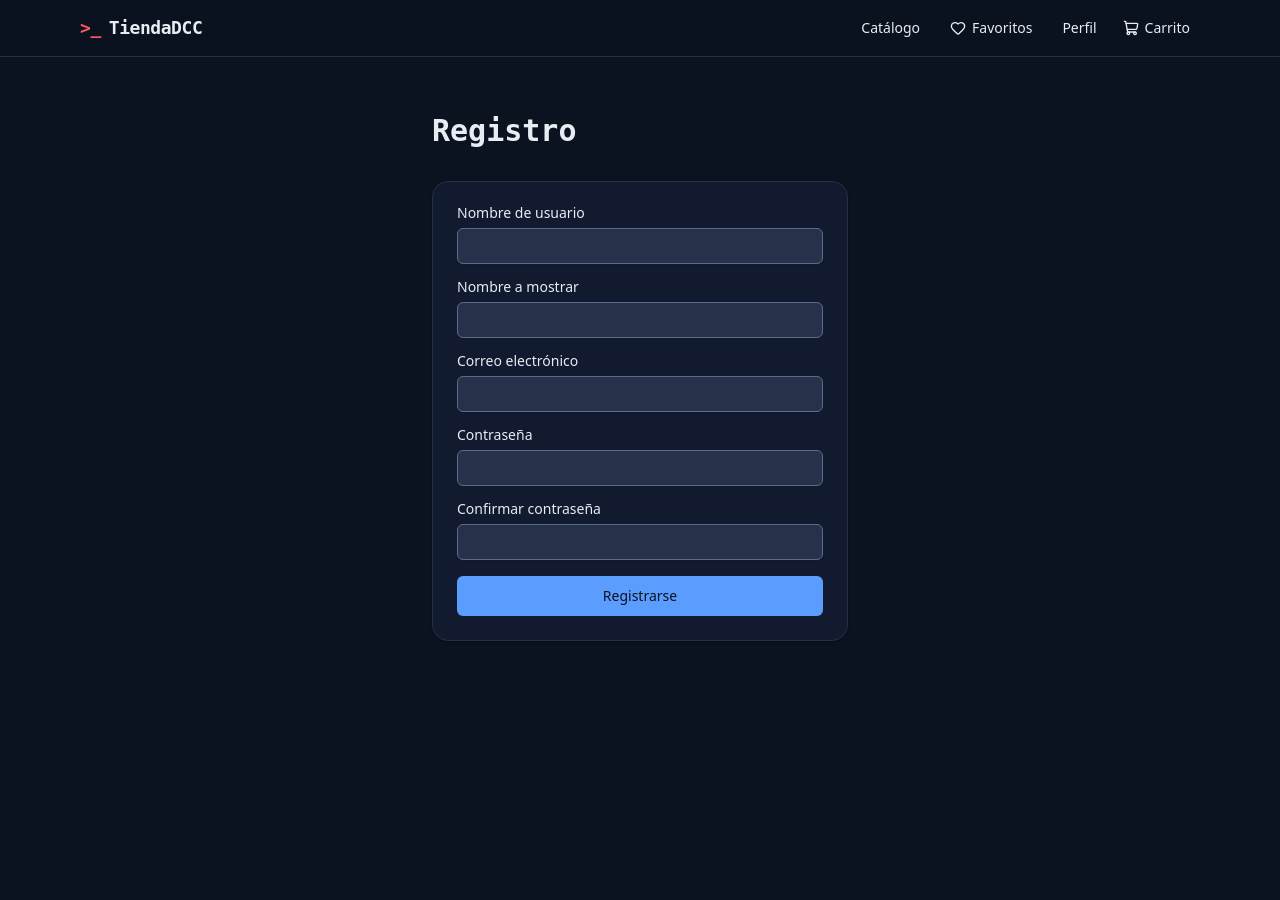
Test: RegisterPage › validates locally and keeps the entered data
Type "ana" into the field labelled "Nombre de usuario".
click(640, 246); type("ana")  # box [457, 228, 823, 264]
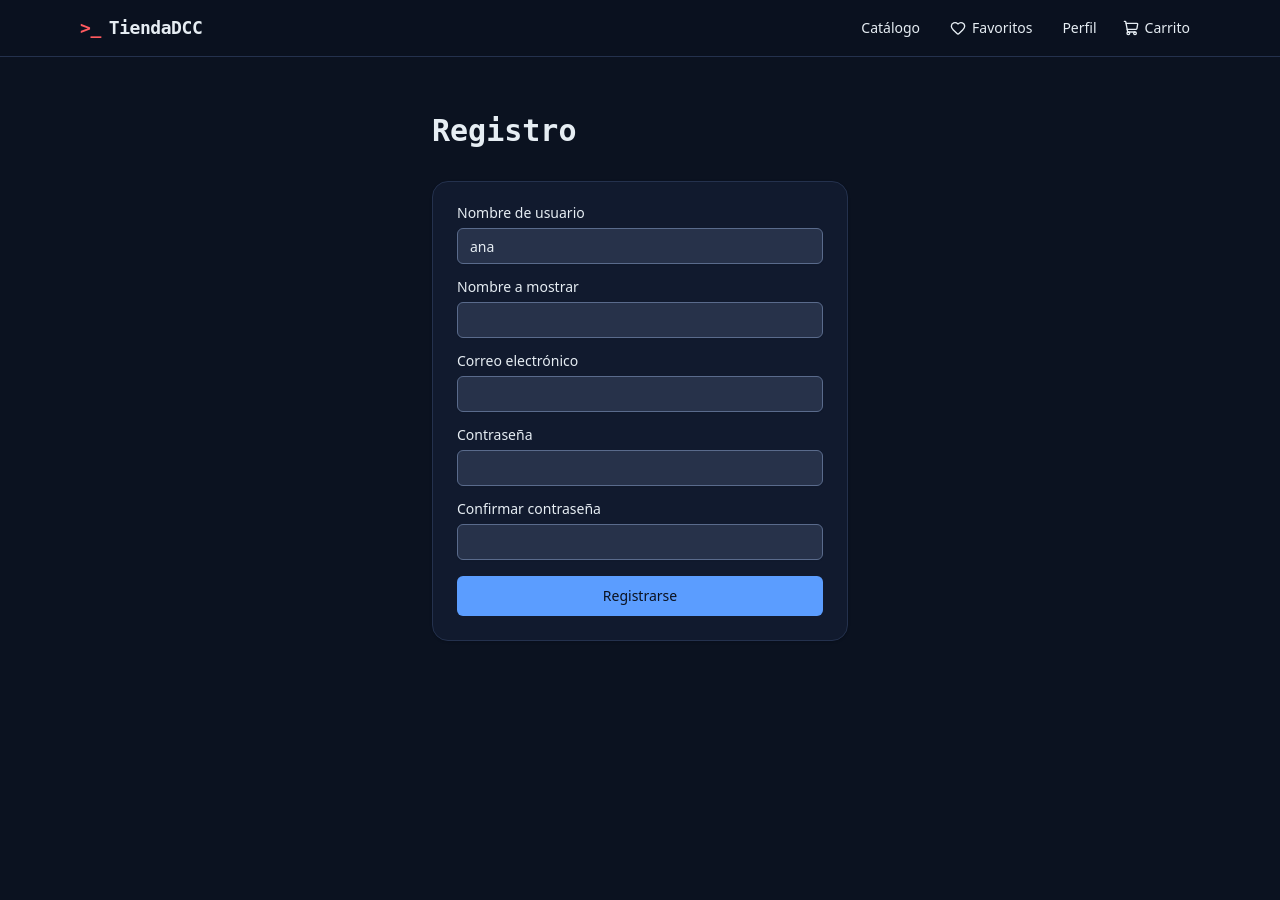
Click the button "Registrarse".
click(640, 596)  # box [457, 576, 823, 616]
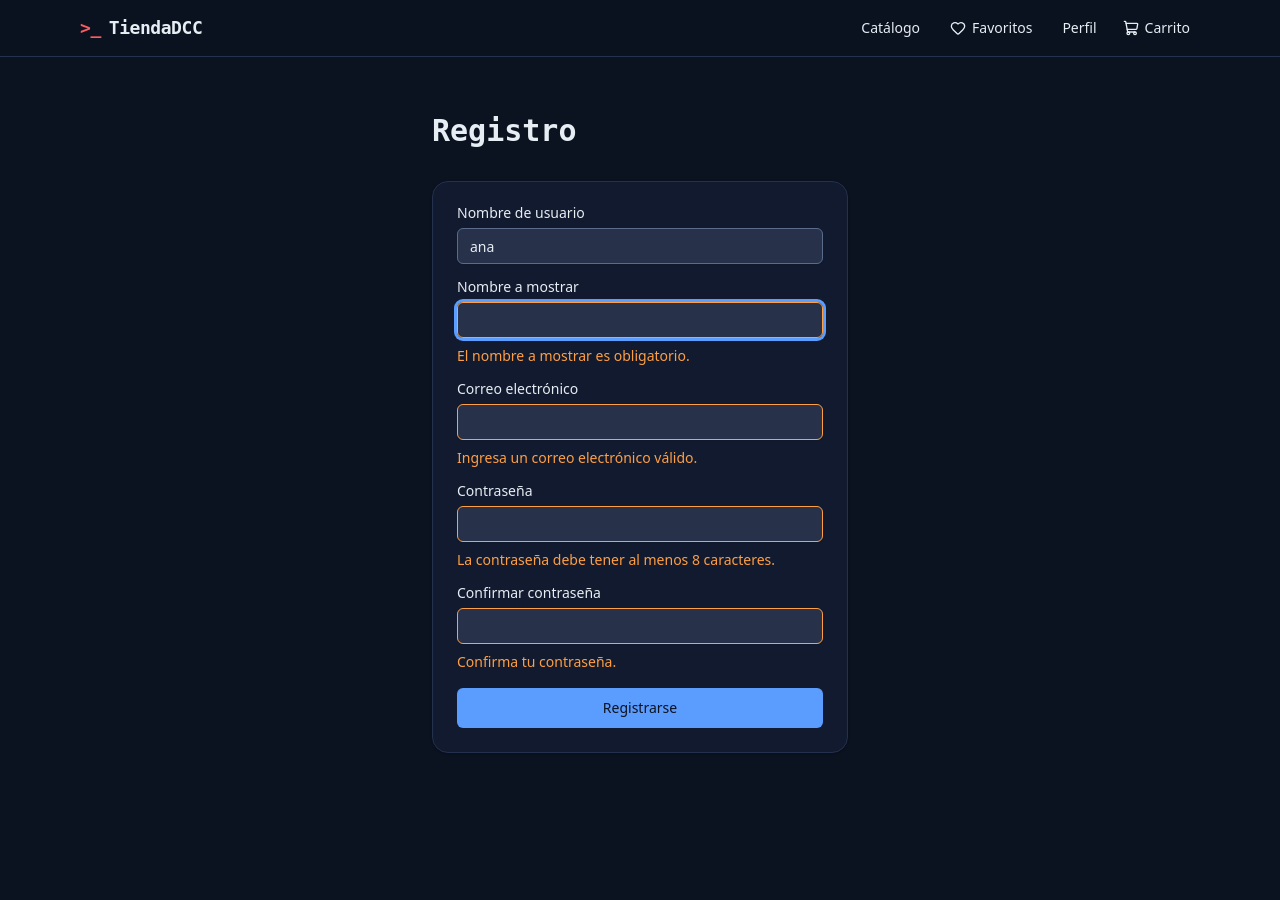
Now the text "Ingresa un correo electrónico válido." is shown, box [457, 448, 697, 467]
Now the text "La contraseña debe tener al menos 8 caracteres." is shown, box [457, 550, 823, 570]
Now the text "Confirma tu contraseña." is shown, box [457, 652, 616, 671]
